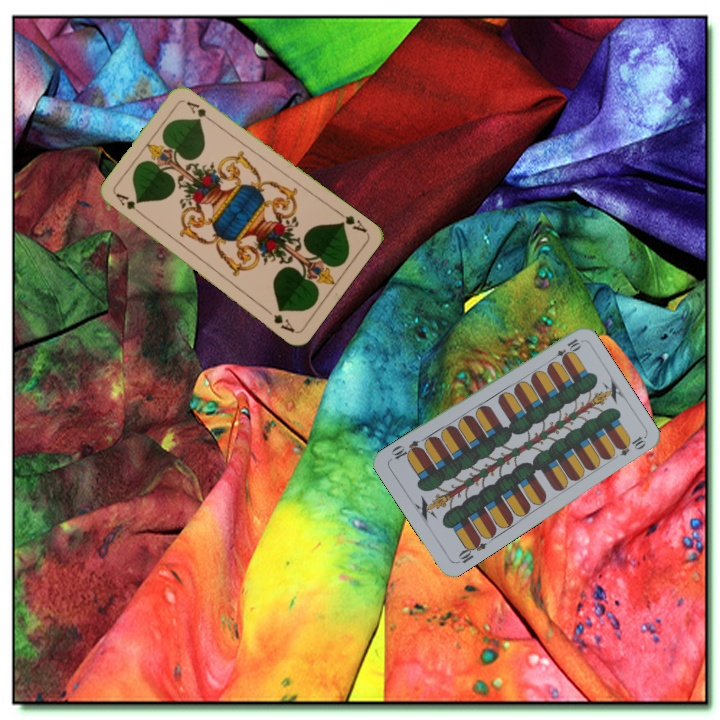E10: (453, 534, 489, 566), (546, 334, 583, 365)
GA: (112, 189, 147, 220), (334, 207, 370, 235)
